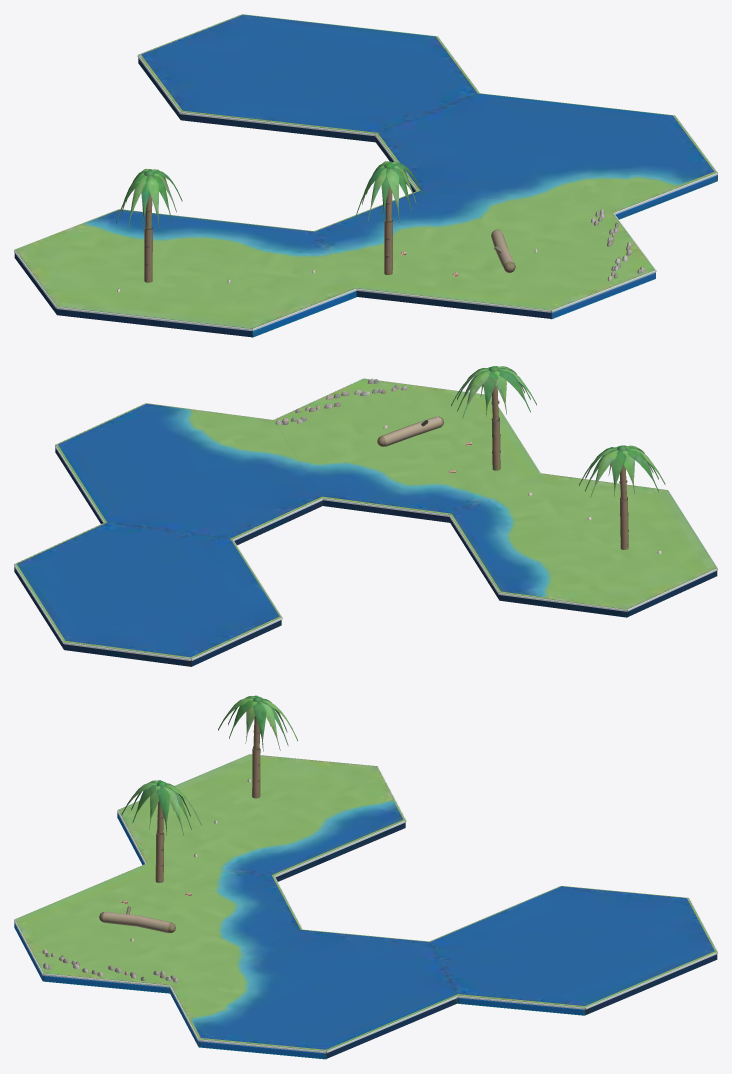
The model's file is field_cm09_01.glb.
The picture shows the model from 3 angles, top to bottom: view 1: azimuth 30°, elevation 25°; view 2: azimuth 150°, elevation 25°; view 3: azimuth 270°, elevation 25°; orthographic projection. The views are drawn at different scales.
Visible parts, largest first — view 1: field_cm09_01-runtime-static; view 2: field_cm09_01-runtime-static; view 3: field_cm09_01-runtime-static.
Boxes of the visible parts, bbox=[...] form: field_cm09_01-runtime-static: bbox=[14, 14, 717, 337]; field_cm09_01-runtime-static: bbox=[14, 366, 717, 666]; field_cm09_01-runtime-static: bbox=[14, 695, 717, 1059].
Size of the model in its own units: 19.17 by 3.27 by 19.17.
1 material, 1 textured.
